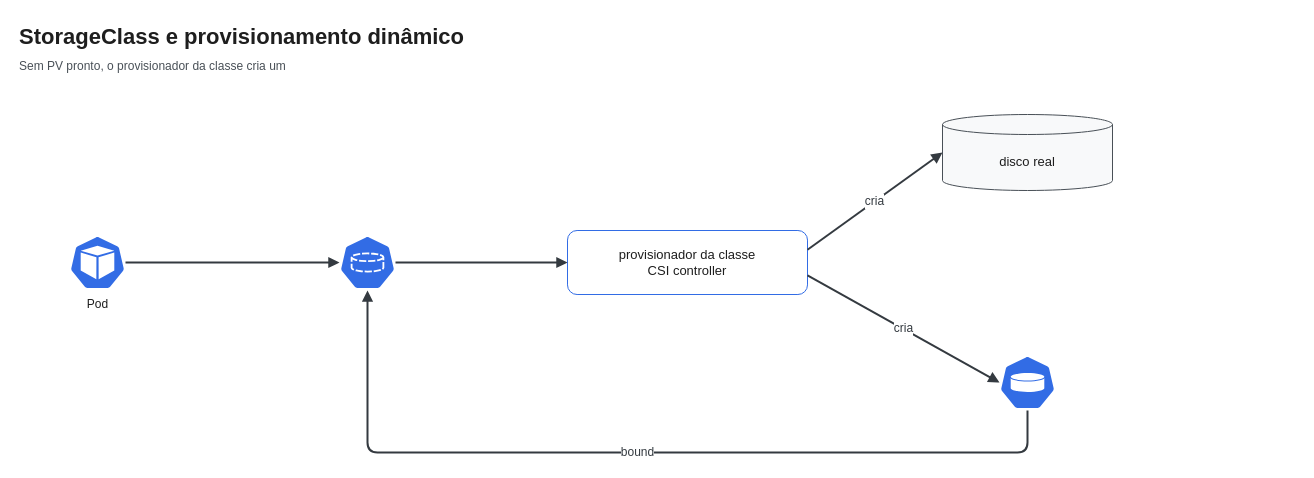
Some shapes in this 1314 by 478 pixel diagram are drawn without their labels. The shapes that lost their labels are listed below. From the top down, each one's centre as x and y in pixels, then its label:
the point at 367,262: PVC storageClassName: rapido
the point at 1027,382: PV tamanho exato · reclaimPolicy da classe
